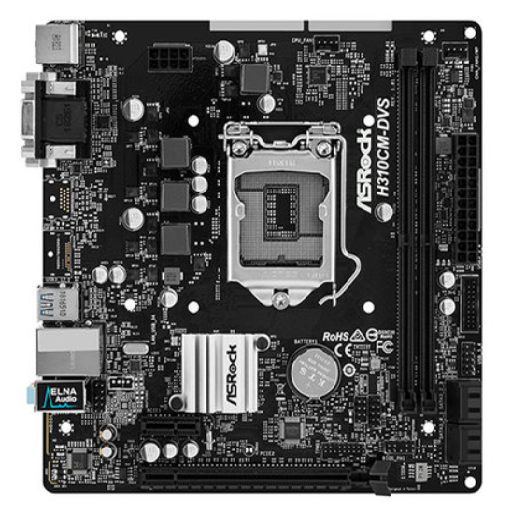CPU: (221, 121, 347, 309)
GPU: (136, 458, 393, 496)
MOTHERBOARD: (19, 16, 485, 493)
RAM: (394, 45, 441, 417)
